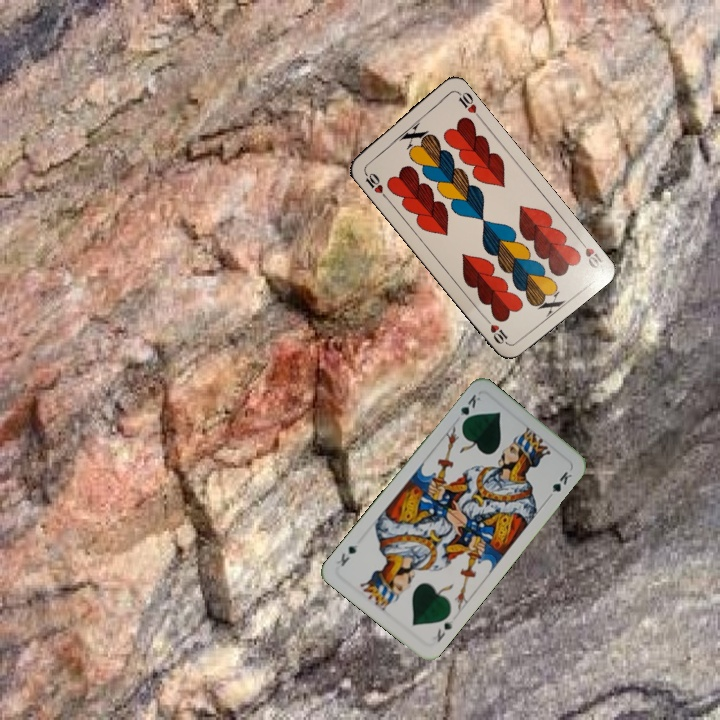GK: (452, 390, 484, 427), (433, 616, 457, 645)
H10: (574, 233, 605, 271), (359, 166, 389, 201)
